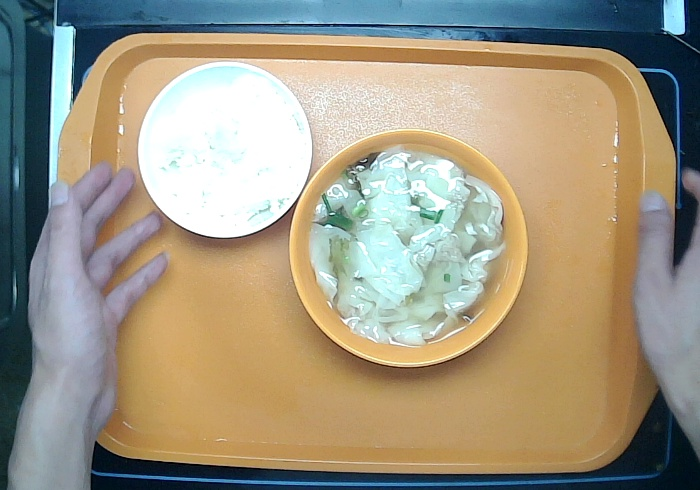NLDX-Fan_Wan: (133, 58, 316, 242)
NLDX-Hun_Tun_Wan: (287, 127, 529, 367)
